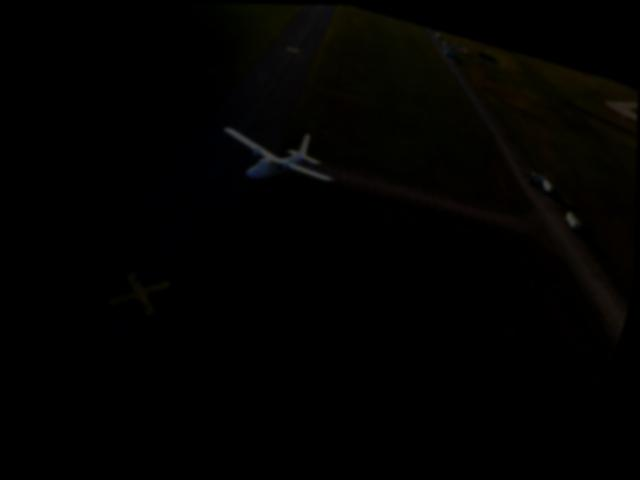uav: (211, 108, 348, 201)
